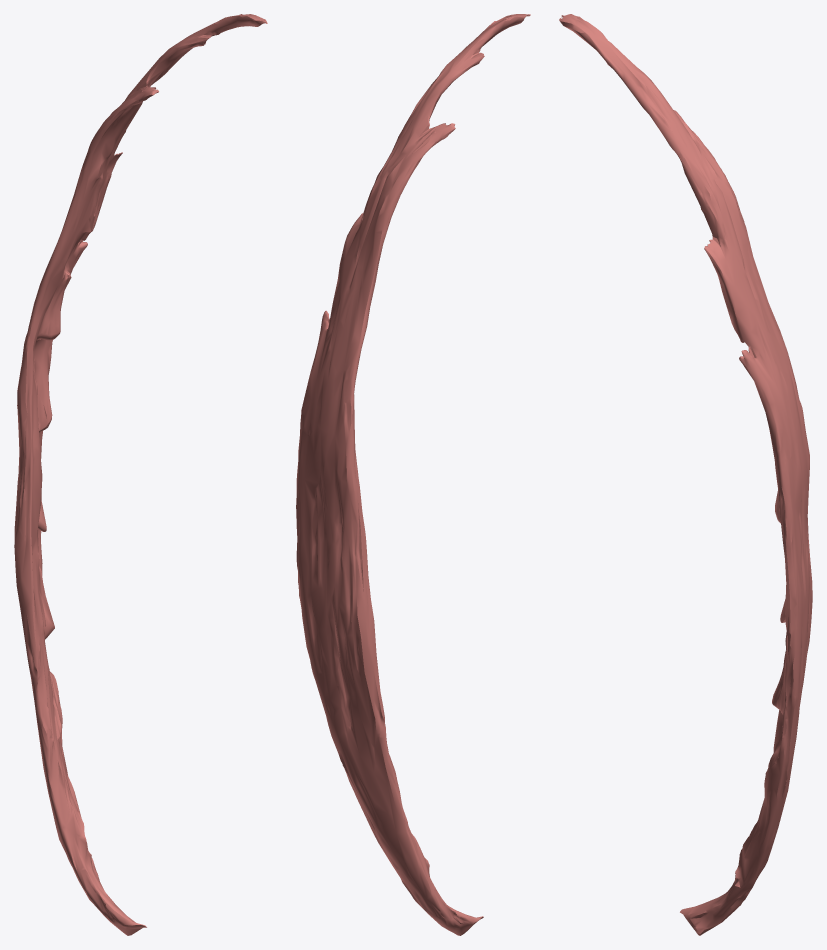
The model's file is fma22743_fj1528m.glb.
3 renders of one model, left to right at view 1: azimuth 90°, elevation 25°; view 2: azimuth 150°, elevation 25°; view 3: azimuth 270°, elevation 25°, orthographic. The views are drawn at different scales.
Parts seen in each view (by area): view 1: FMA22743_FJ1528M; view 2: FMA22743_FJ1528M; view 3: FMA22743_FJ1528M.
Part boxes in pixels (left/top/right/bottom): FMA22743_FJ1528M: left=14, top=14, right=267, bottom=935; FMA22743_FJ1528M: left=296, top=14, right=530, bottom=935; FMA22743_FJ1528M: left=559, top=14, right=812, bottom=935.
Size of the model in its own units: 0.0502 by 0.3044 by 0.0761.
